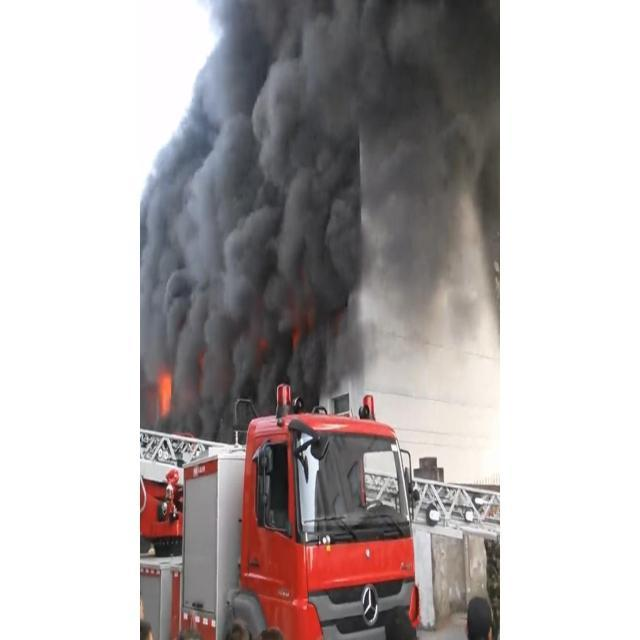Fire: (158, 372, 172, 414)
Smoke: (140, 1, 500, 447)
